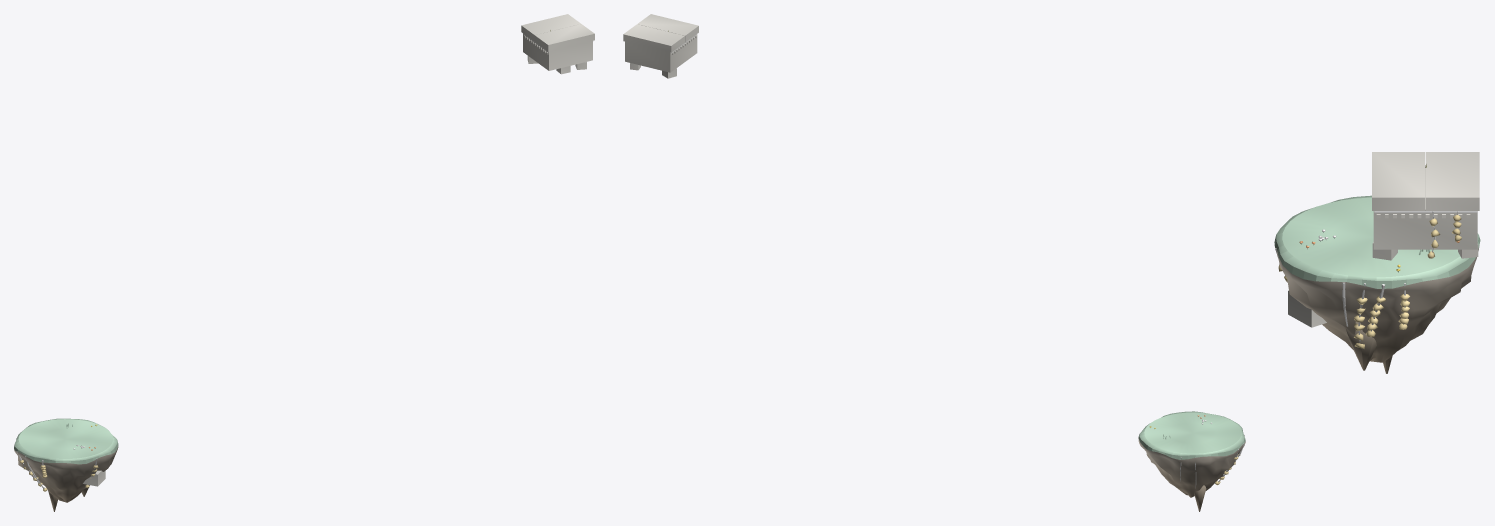
File: SM_Sky_C.fbx
3 renders of one model, left to right at view 1: azimuth 30°, elevation 25°; view 2: azimuth 150°, elevation 25°; view 3: azimuth 270°, elevation 25°, orthographic. The views are drawn at different scales.
Parts seen in each view (by area): view 1: SM_Sky_C; view 2: SM_Sky_C; view 3: SM_Sky_C.
Boxes of the visible parts, x1,y1,x2,y2 form: SM_Sky_C: [14, 14, 594, 511]; SM_Sky_C: [623, 14, 1245, 511]; SM_Sky_C: [1274, 152, 1480, 373].
Size of the model in its own units: 2716 by 1584 by 421.
